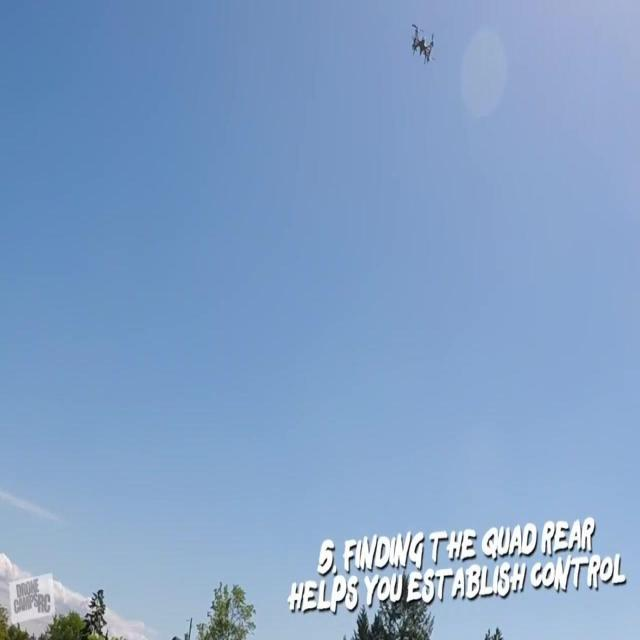UAV: (412, 24, 436, 64)
